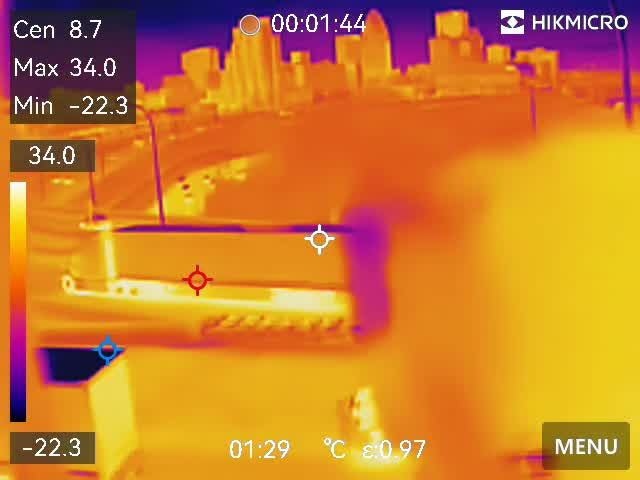heavyTruck: (59, 227, 375, 309)
